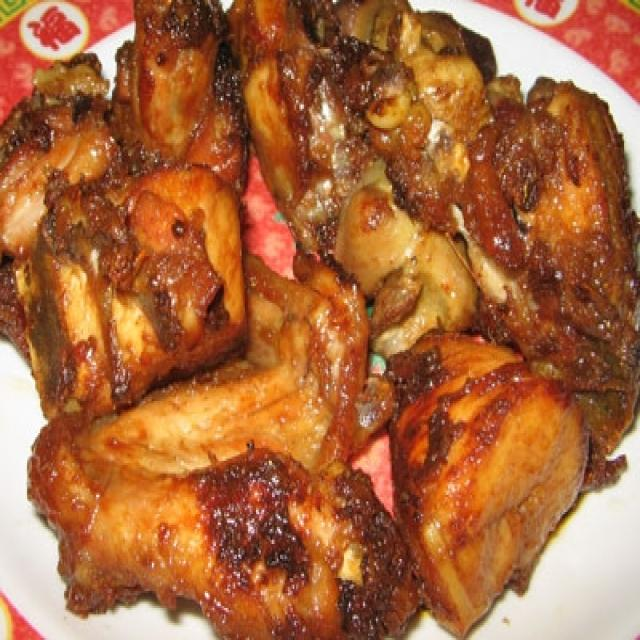鸡肉料理 含炸鸡: (18, 17, 627, 612)
